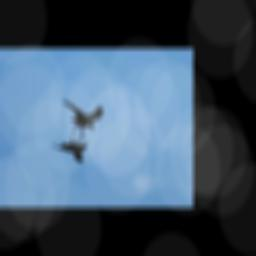Crow: (54, 97, 105, 141)
